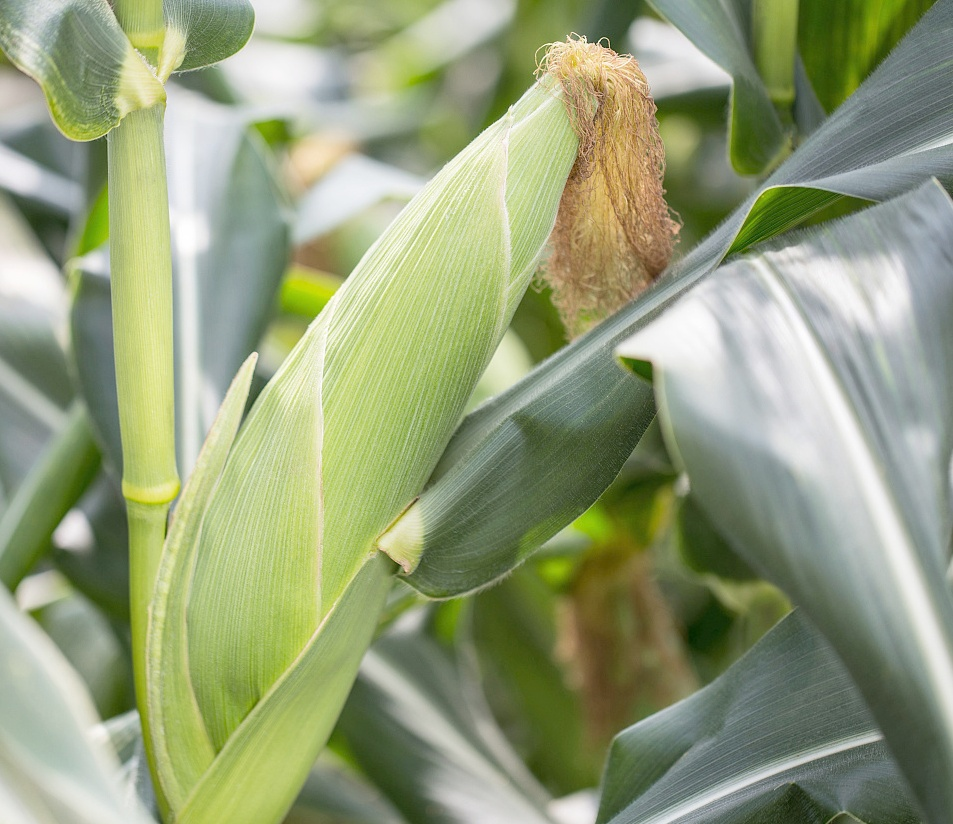corn_plant: (143, 16, 682, 807)
